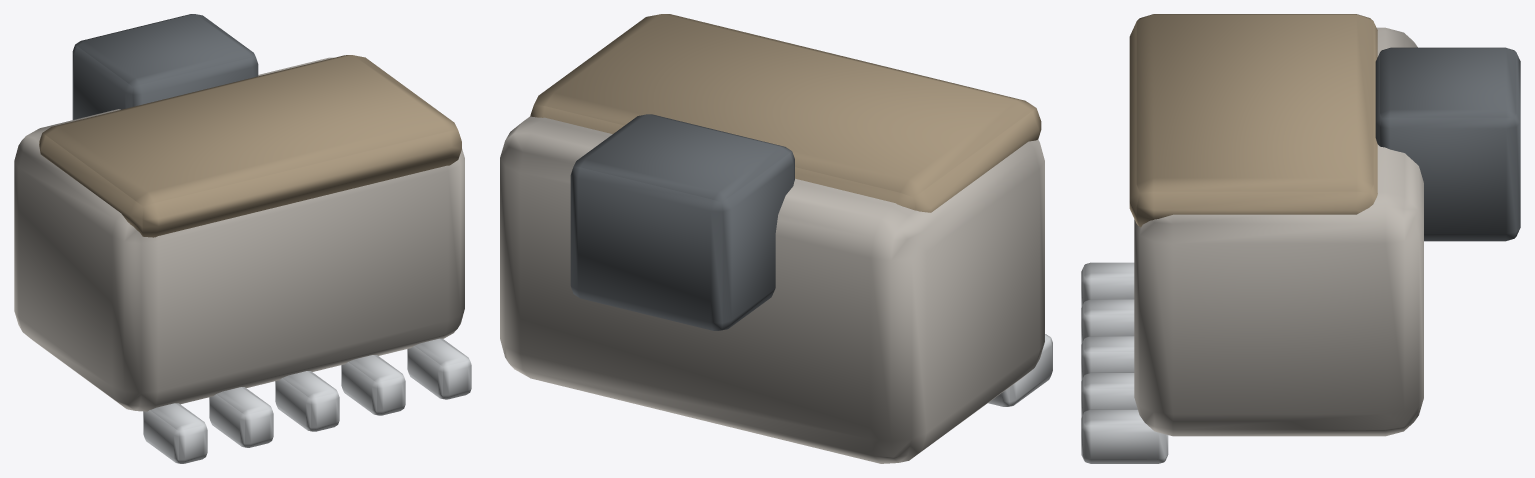
Rendered from exc_bucket.glb.
3 renders of one model, left to right at view 1: azimuth 30°, elevation 25°; view 2: azimuth 150°, elevation 25°; view 3: azimuth 270°, elevation 25°, orthographic. The views are drawn at different scales.
Parts seen in each view (by area): view 1: Body; view 2: Body; view 3: Body.
Boxes of the visible parts, x1,y1,x2,y2 form: Body: [14, 14, 471, 463]; Body: [500, 14, 1052, 463]; Body: [1081, 14, 1520, 463].
Size of the model in its own units: 0.95 by 0.7 by 0.91.
